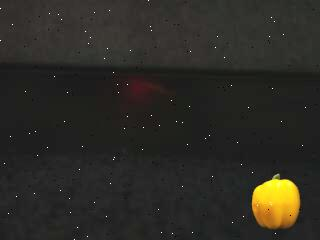Capsicum: (248, 169, 304, 231)
